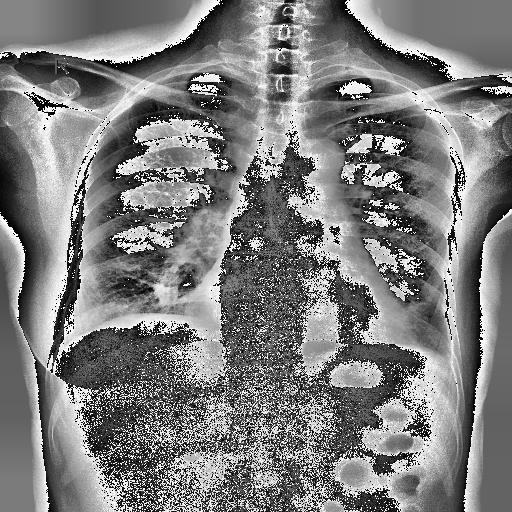0- Aortic enlargement: (282, 136, 346, 190)
10- Pleural effusion: (430, 344, 452, 375)
11- Pleural thickening: (430, 344, 452, 375)
13- Pulmonary fibrosis: (113, 256, 183, 308), (398, 296, 436, 314)
3- Cardiomegaly: (192, 276, 424, 352), (198, 276, 406, 350), (201, 274, 413, 344)
